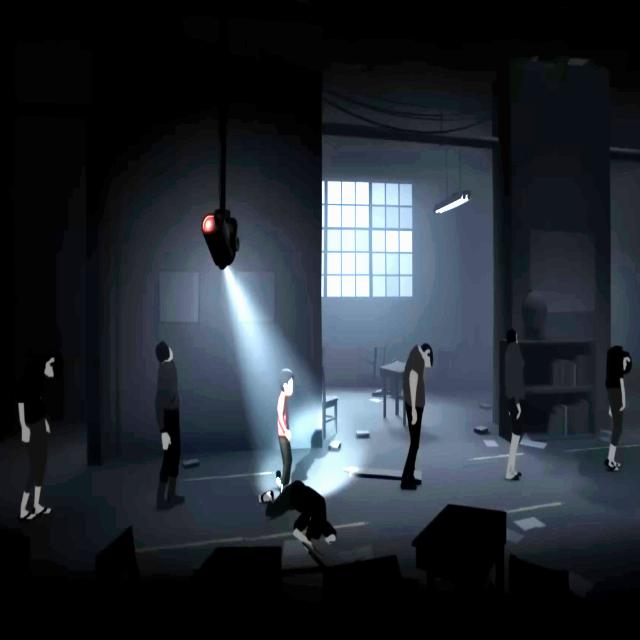boy: (277, 369, 295, 480)
zombie: (17, 349, 60, 522), (258, 480, 336, 550), (401, 343, 434, 490), (156, 340, 184, 508), (605, 346, 632, 472), (504, 328, 525, 481)
